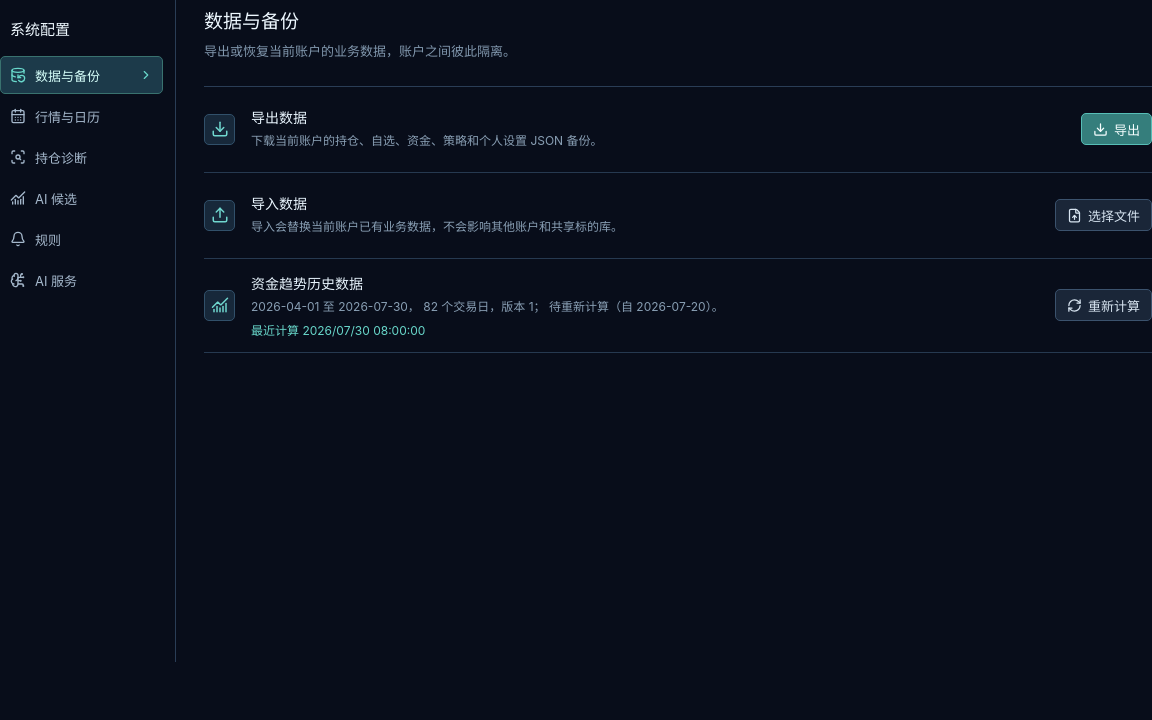
Scenario: SystemConfigurationView › configures the intraday snapshot master switch and collection mode
Click the button with class "system-configuration-nav-item" showing "行情与日历": (82, 116) [0,97,163,135]
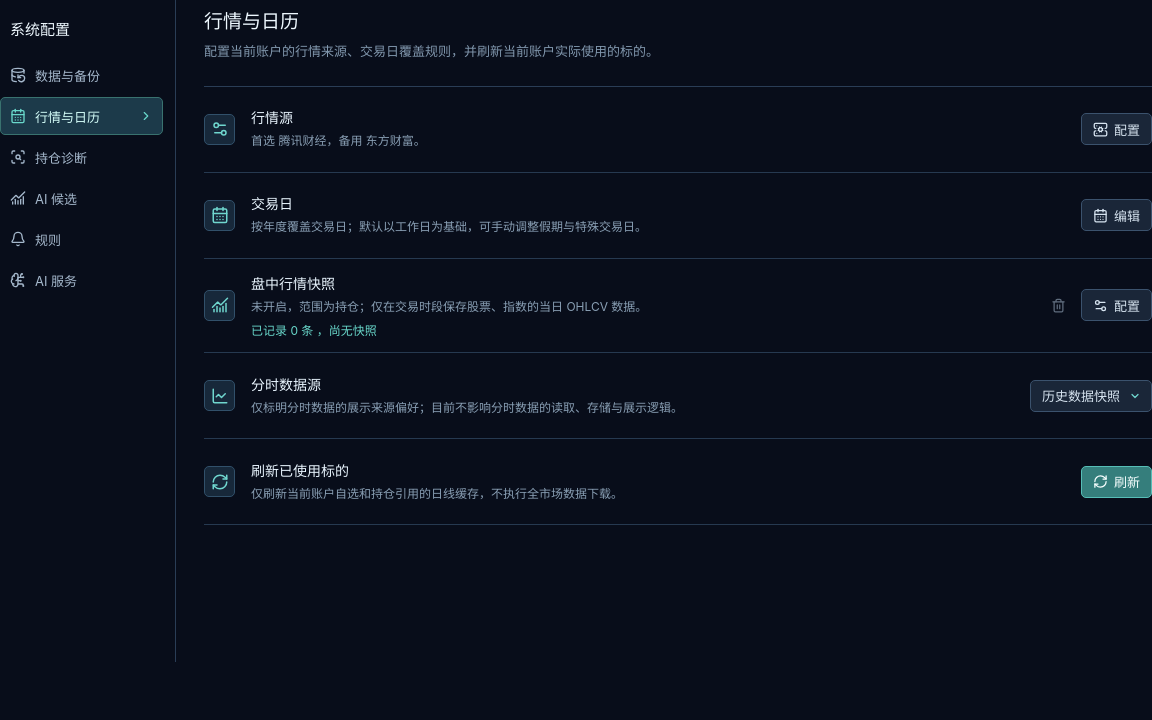
Click the 3rd button with class "batman-button": (1116, 305) [1081,289,1151,321]
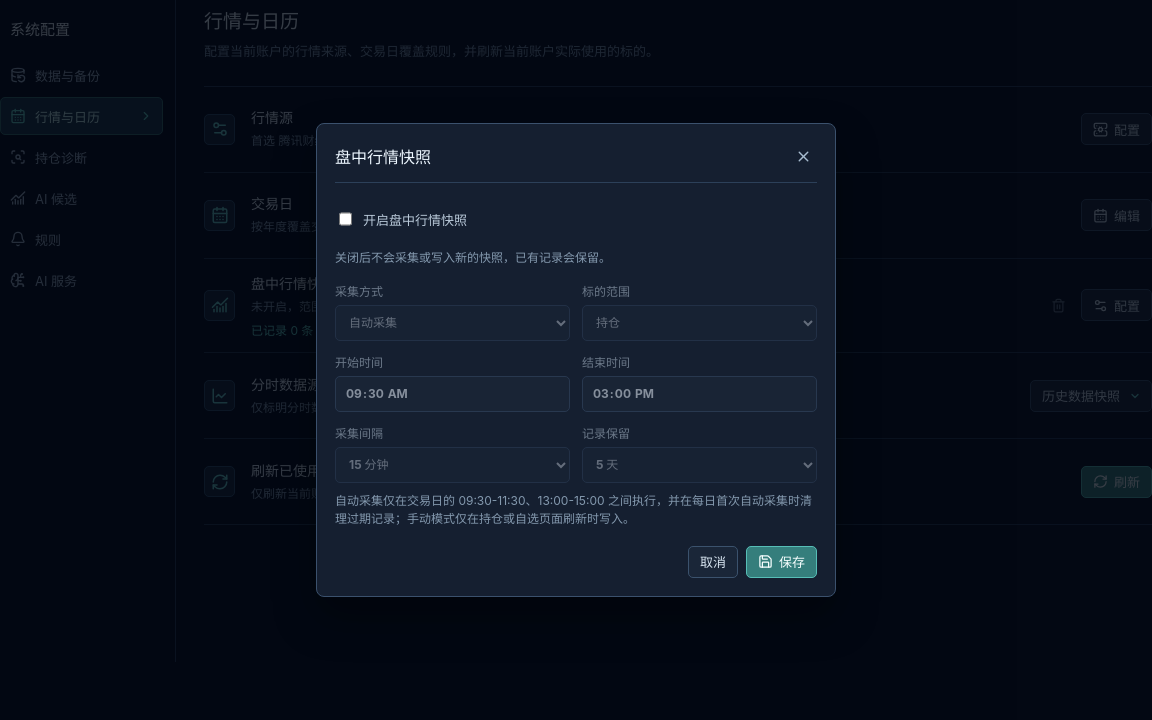
Click the checkbox named "开启盘中行情快照": (346, 219) [339,201,352,237]
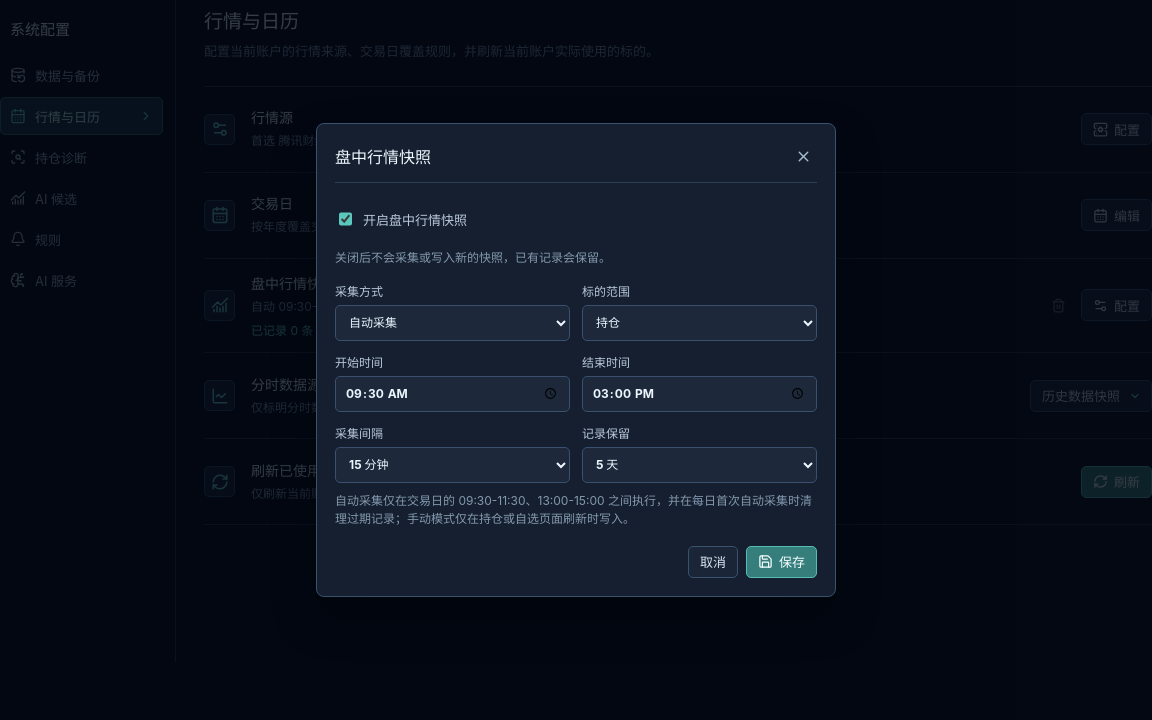
Select "手动刷新写入" in the dropdown labelled "采集方式": (452, 323) [335,305,570,341]
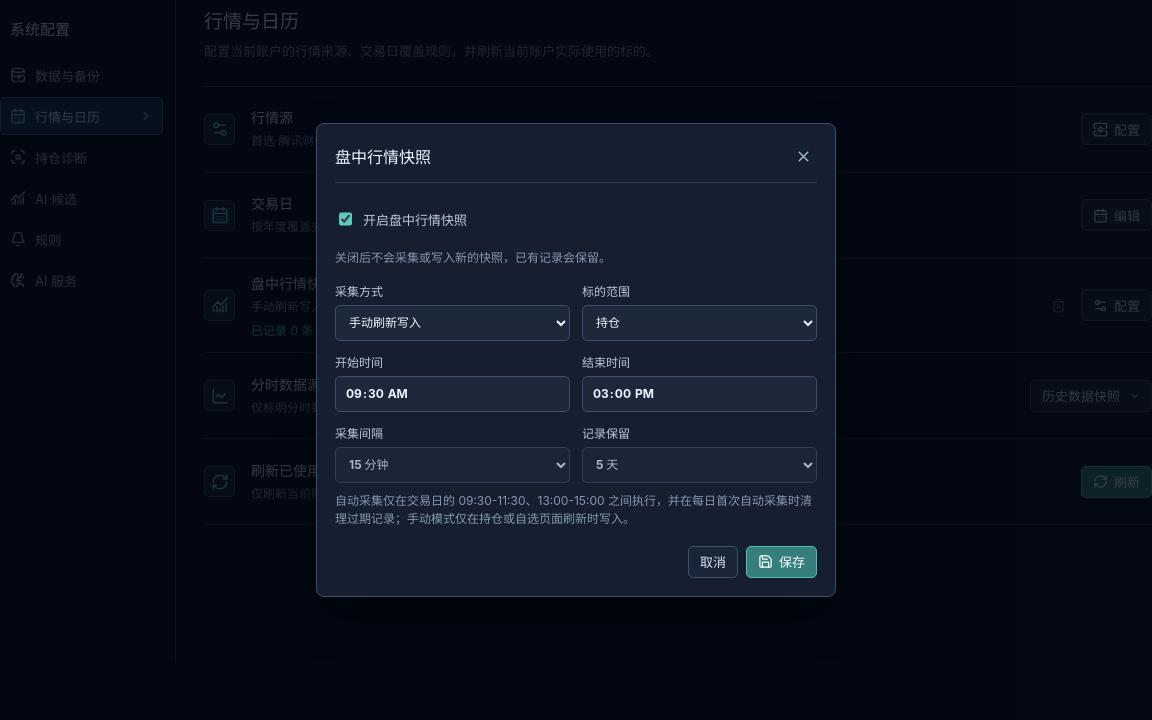
Select "自选 + 持仓" in the dropdown labelled "标的范围": (700, 323) [582,305,817,341]
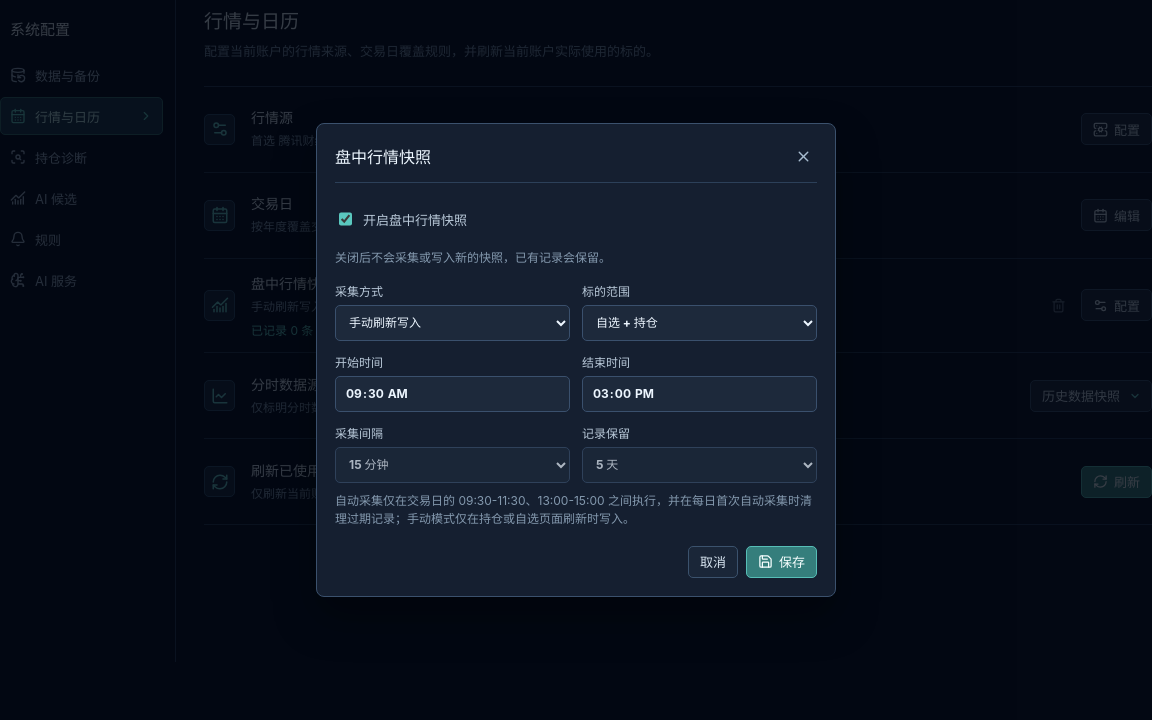
Submit the form with class "system-dialog-form", box [335,198,817,578]
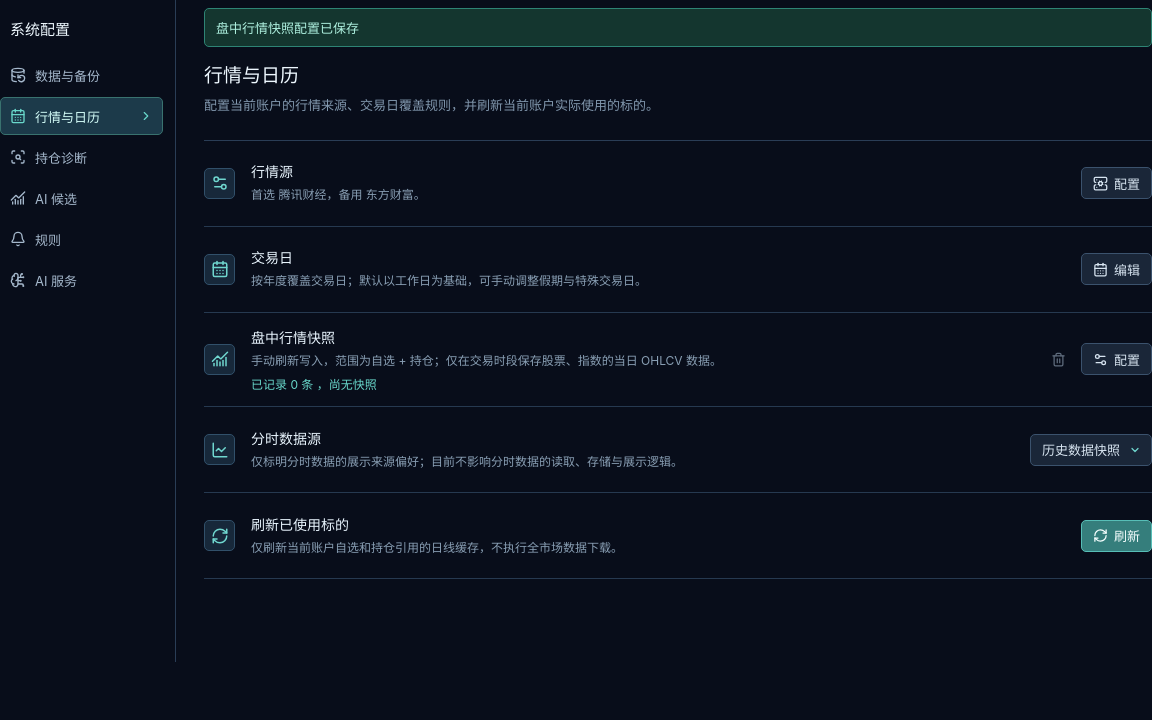
Expected: the text "盘中行情快照配置已保存" is shown, [204,8,1151,47]
